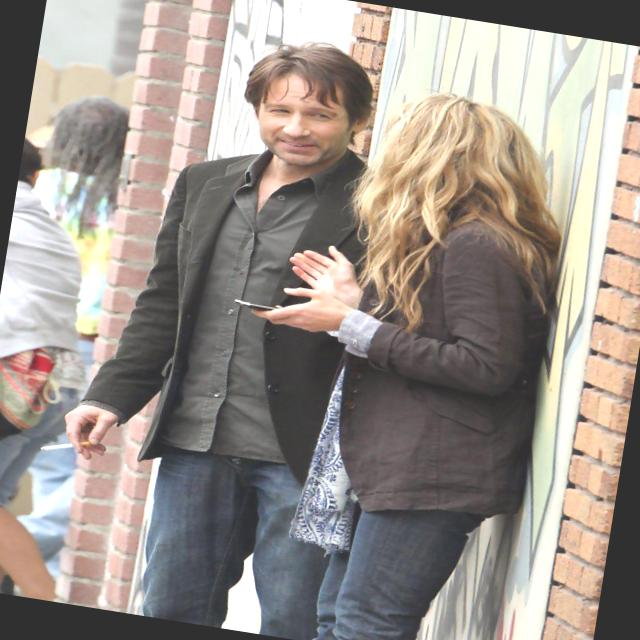cigarette: (10, 414, 120, 477)
